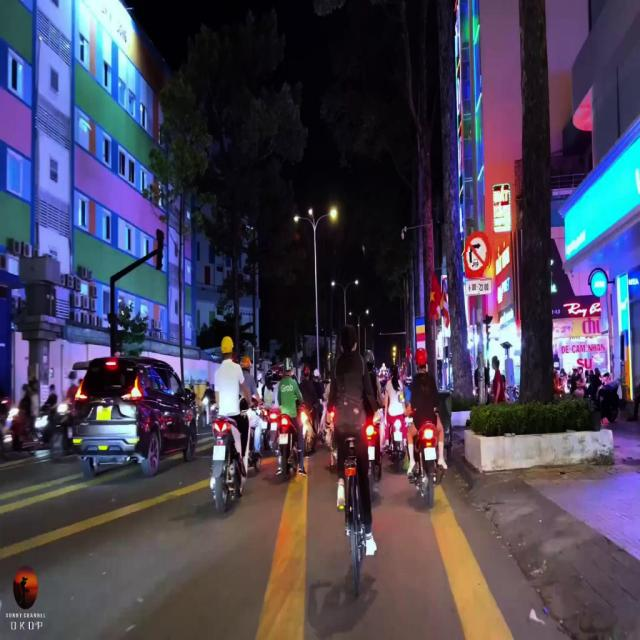cam_o_to_re_phai: (465, 232, 492, 280)
khac: (466, 278, 492, 294)
